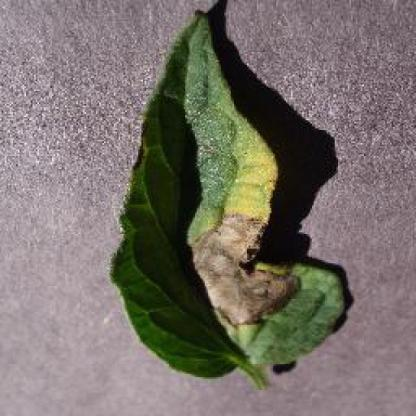Tomato_Blight: (112, 9, 344, 374)
